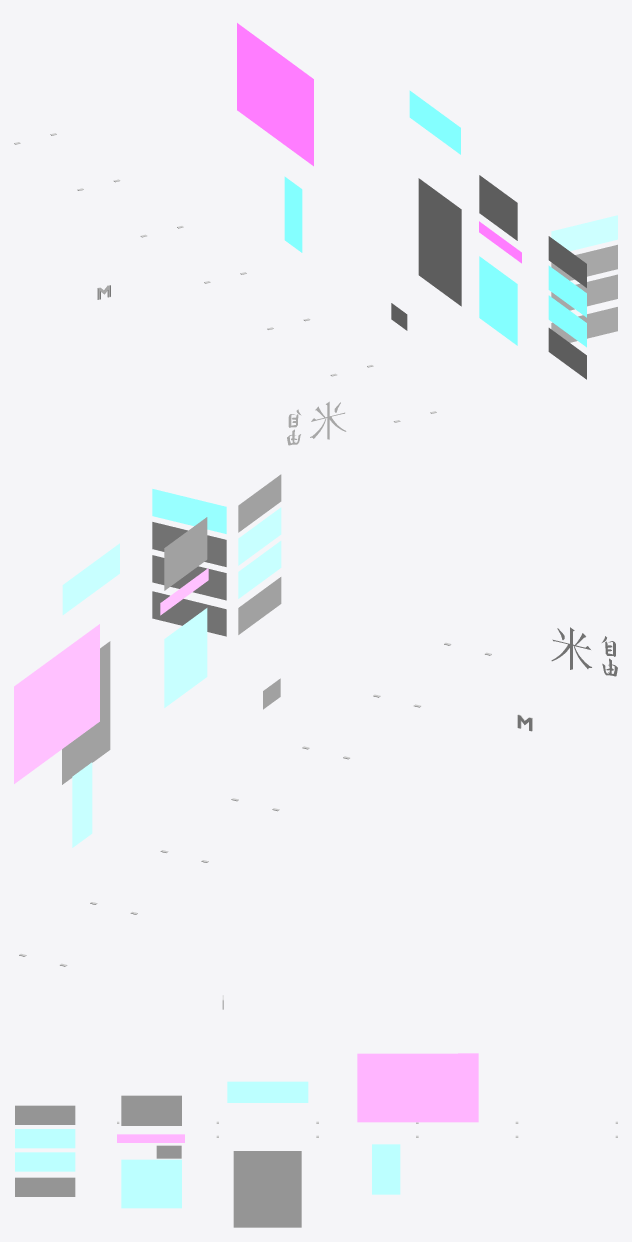
The model's file is FR5Light.fbx.
3 renders of one model, top to bottom at view 1: azimuth 30°, elevation 25°; view 2: azimuth 150°, elevation 25°; view 3: azimuth 270°, elevation 25°, orthographic. The views are drawn at different scales.
Visible parts, largest first — view 1: Plane.001; view 2: Plane.001; view 3: Plane.001.
Boxes of the visible parts, x1,y1,x2,y2 form: Plane.001: (14,23,617,445); Plane.001: (14,474,617,966); Plane.001: (15,995,617,1227).
Size of the model in its own units: 11500 by 4997 by 17766.
